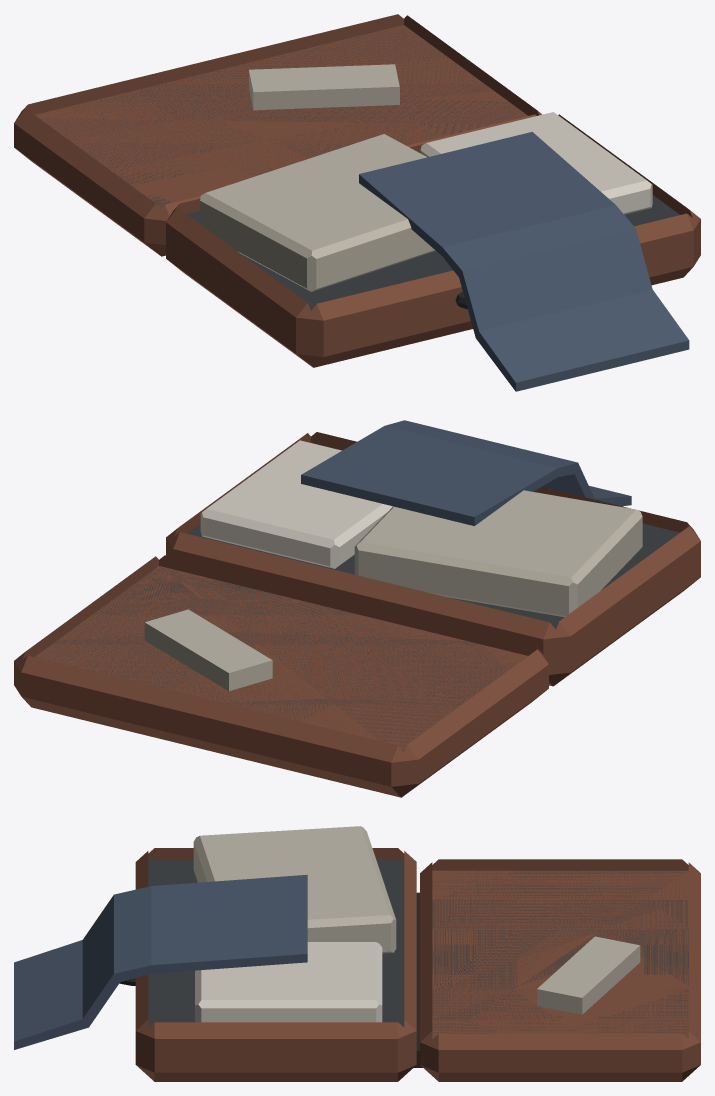
Rendered from valise_ouverte.glb.
3 renders of one model, top to bottom at view 1: azimuth 30°, elevation 25°; view 2: azimuth 150°, elevation 25°; view 3: azimuth 270°, elevation 25°, orthographic. The views are drawn at different scales.
Visible parts, largest first — view 1: lid, shirt, tray, folded, lid_floor, towel, sock, tray_floor; view 2: lid, folded, tray, shirt, lid_floor, towel, sock, tray_floor; view 3: lid, shirt, tray, lid_floor, folded, towel, tray_floor, sock, hinge.
Boxes of the visible parts, box(x1,y1,x2,y2) form: lid: box(14, 14, 541, 256); shirt: box(359, 131, 689, 391); tray: box(166, 114, 700, 367); folded: box(200, 134, 435, 291); lid_floor: box(42, 25, 525, 211); towel: box(420, 112, 652, 214); sock: box(249, 64, 399, 110); tray_floor: box(187, 195, 679, 310); lid: box(14, 555, 548, 797); folded: box(354, 490, 642, 617); tray: box(166, 432, 700, 686); shirt: box(301, 420, 631, 525); lid_floor: box(37, 566, 510, 750); towel: box(200, 440, 392, 568); sock: box(144, 609, 272, 691); tray_floor: box(187, 442, 679, 629); lid: box(420, 859, 700, 1081); shirt: box(14, 874, 307, 1049); tray: box(135, 848, 416, 1081); lid_floor: box(432, 870, 688, 1038); folded: box(193, 826, 396, 953); towel: box(195, 942, 382, 1022); tray_floor: box(148, 859, 404, 1027); sock: box(537, 936, 640, 1014); hinge: box(414, 892, 422, 1067).
Bounding box in the file's own units: 0.7 × 0.17 × 1.1.
6 materials, 6 textured.
